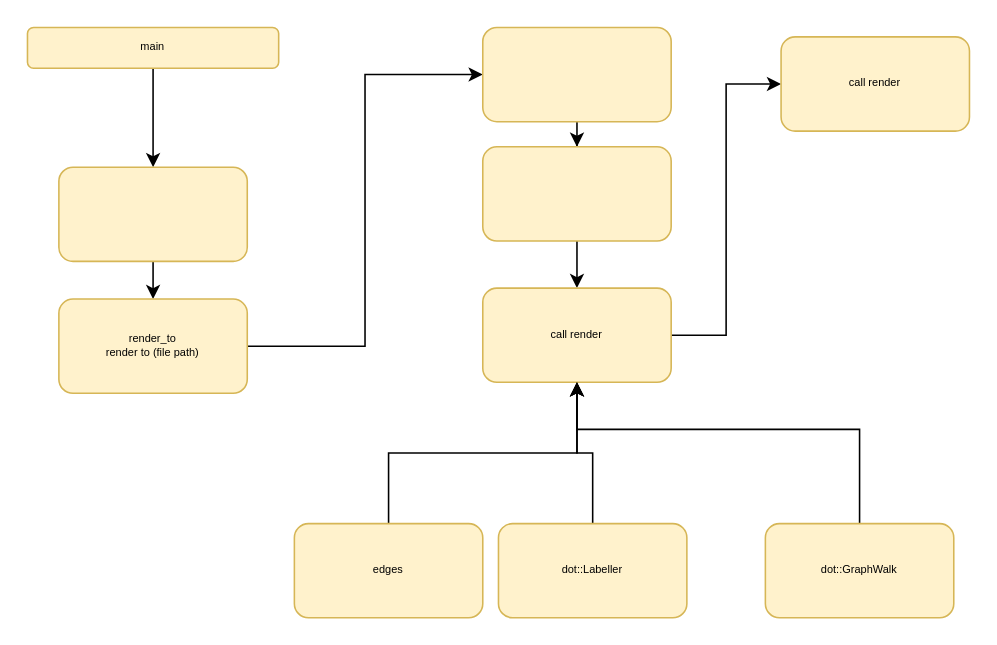
Some shapes in this 997 by 645 pixel diagram are drawn without their labels. The shapes that lost their labels are listed below. From the top down, each one's centre as x and y in pixels, then its label:
At pixel 576 74: "fn render_to".
At pixel 152 213: "create file".
At pixel 576 193: "set edge".
